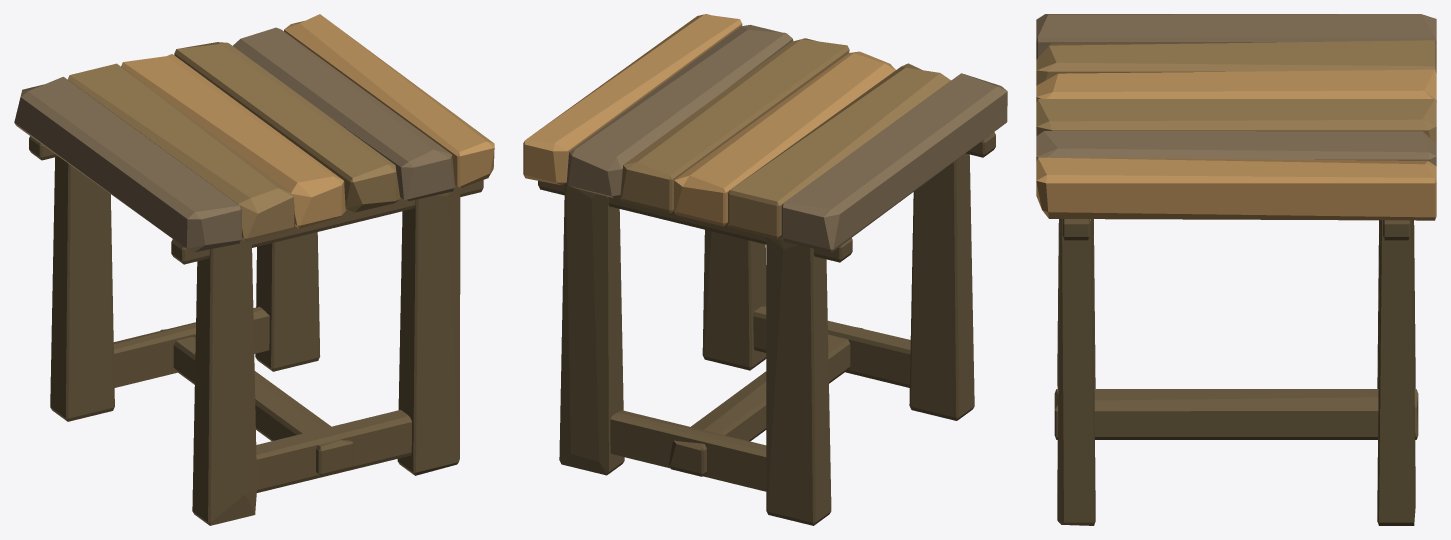
Rendered from Chair.fbx.
3 renders of one model, left to right at view 1: azimuth 30°, elevation 25°; view 2: azimuth 150°, elevation 25°; view 3: azimuth 270°, elevation 25°, orthographic. The views are drawn at different scales.
Visible parts, largest first — view 1: Silla; view 2: Silla; view 3: Silla.
Part boxes in pixels (x1,y1,x2,y2): Silla: [14, 14, 494, 525]; Silla: [523, 14, 1007, 525]; Silla: [1036, 14, 1436, 525].
Size of the model in its own units: 100 by 100 by 100.
